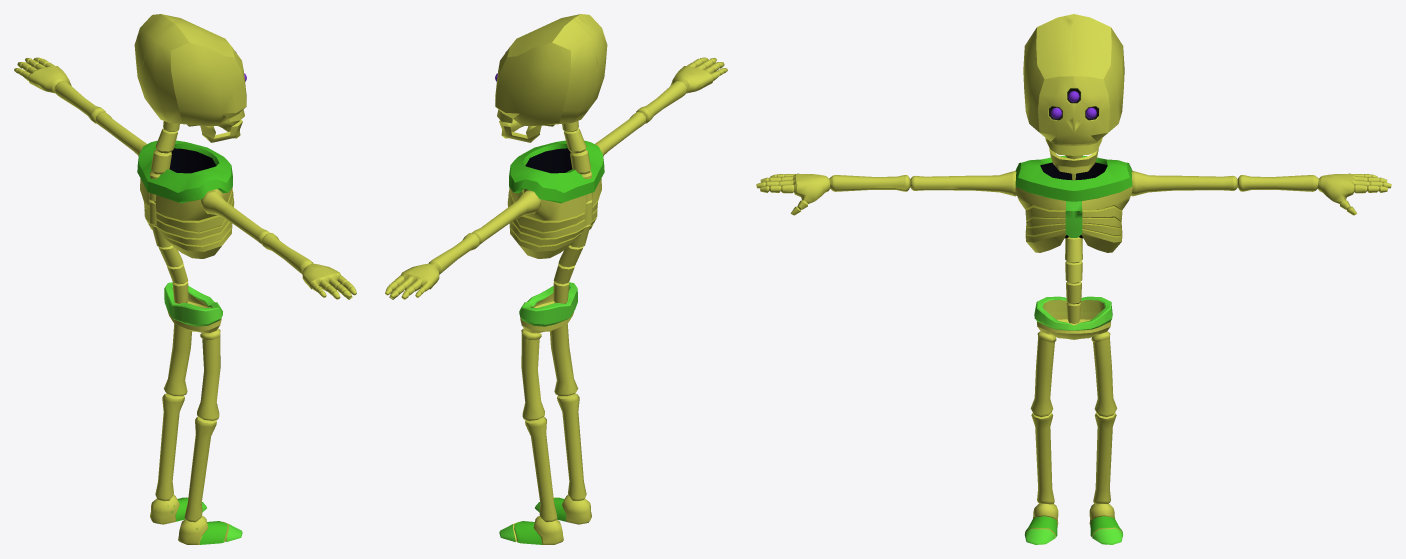
File: Alien_Skeleton.glb
The picture shows the model from 3 angles, left to right: view 1: azimuth 30°, elevation 25°; view 2: azimuth 150°, elevation 25°; view 3: azimuth 270°, elevation 25°; orthographic projection.
Visible parts, largest first — view 1: _100Avatars_109_AlienSkeleton; view 2: _100Avatars_109_AlienSkeleton; view 3: _100Avatars_109_AlienSkeleton.
Boxes of the visible parts, bbox=[...] form: _100Avatars_109_AlienSkeleton: bbox=[14, 14, 356, 544]; _100Avatars_109_AlienSkeleton: bbox=[385, 14, 727, 544]; _100Avatars_109_AlienSkeleton: bbox=[756, 14, 1391, 544].
Bounding box in the file's own units: 1.05 × 5.27 × 6.02.
1 material, 1 textured.
